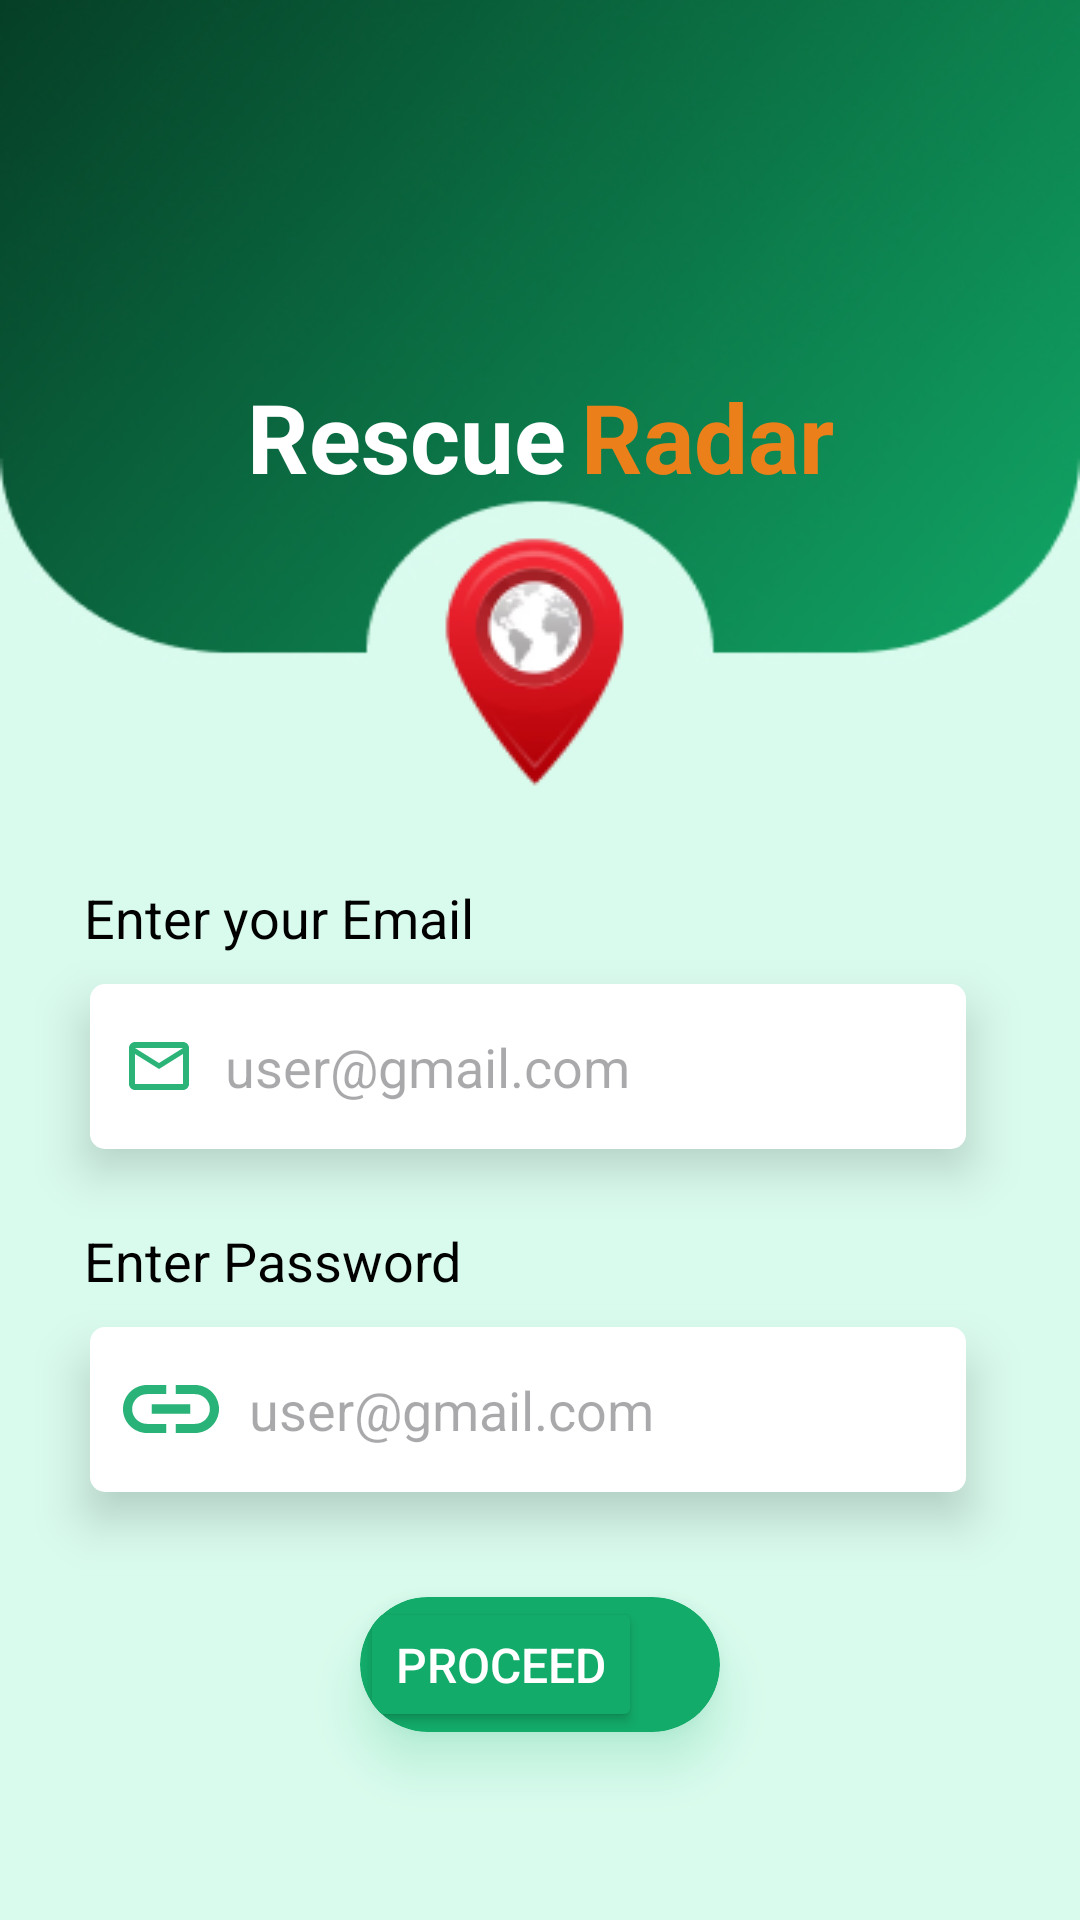

Point at icon controls on the screen. Image size 1080x1920, points as (x,y).
locimage: (534,662)
